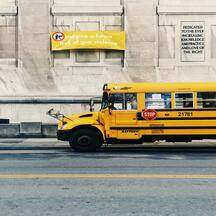Circle: (142, 108, 157, 119)
